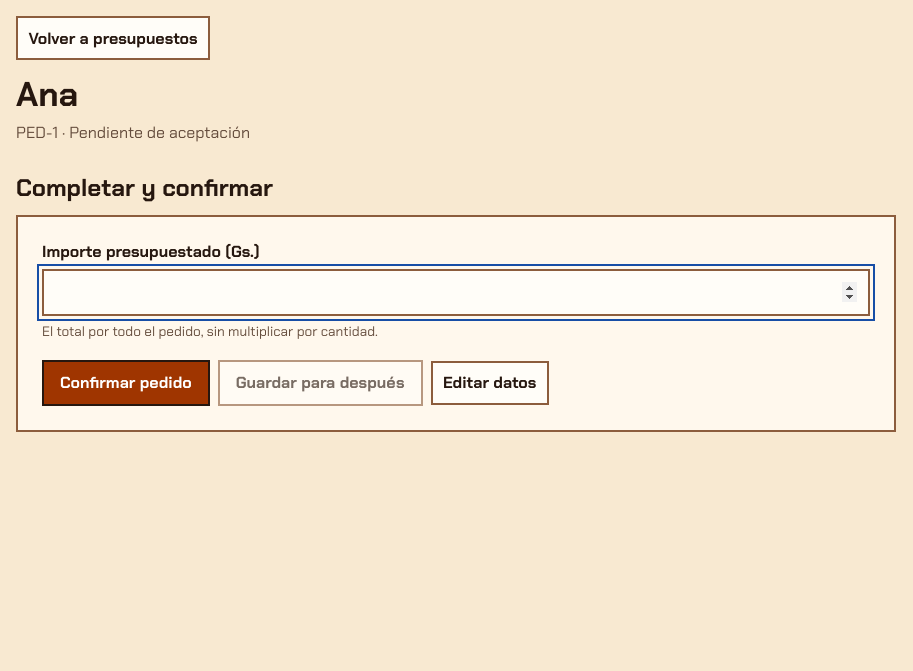
Test: keeps the budget pending when saving the missing amount for later
Type "0" into the number field labelled "Importe presupuestado (Gs.)" at [456, 292], box left=42, top=269, right=870, bottom=316
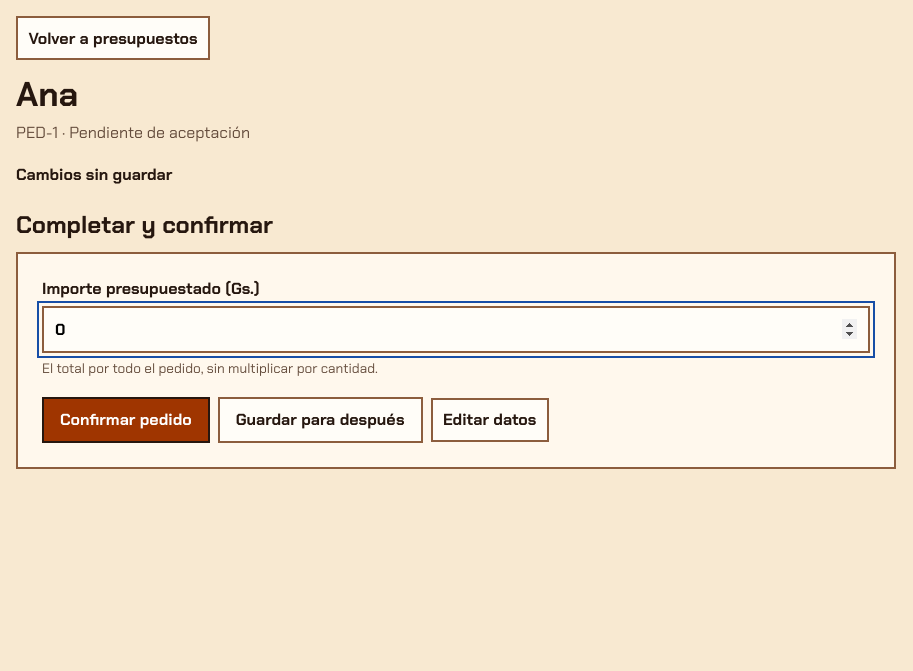
Click the button "Guardar para después" at [320, 420], box left=218, top=397, right=422, bottom=443
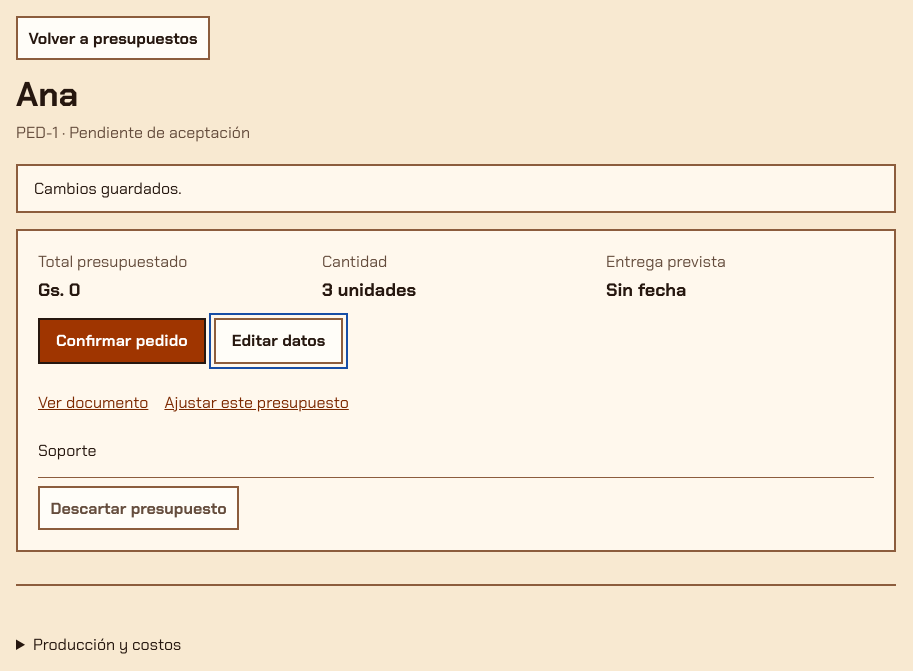
Check: the text "Cambios guardados." is shown, box left=34, top=178, right=181, bottom=199
